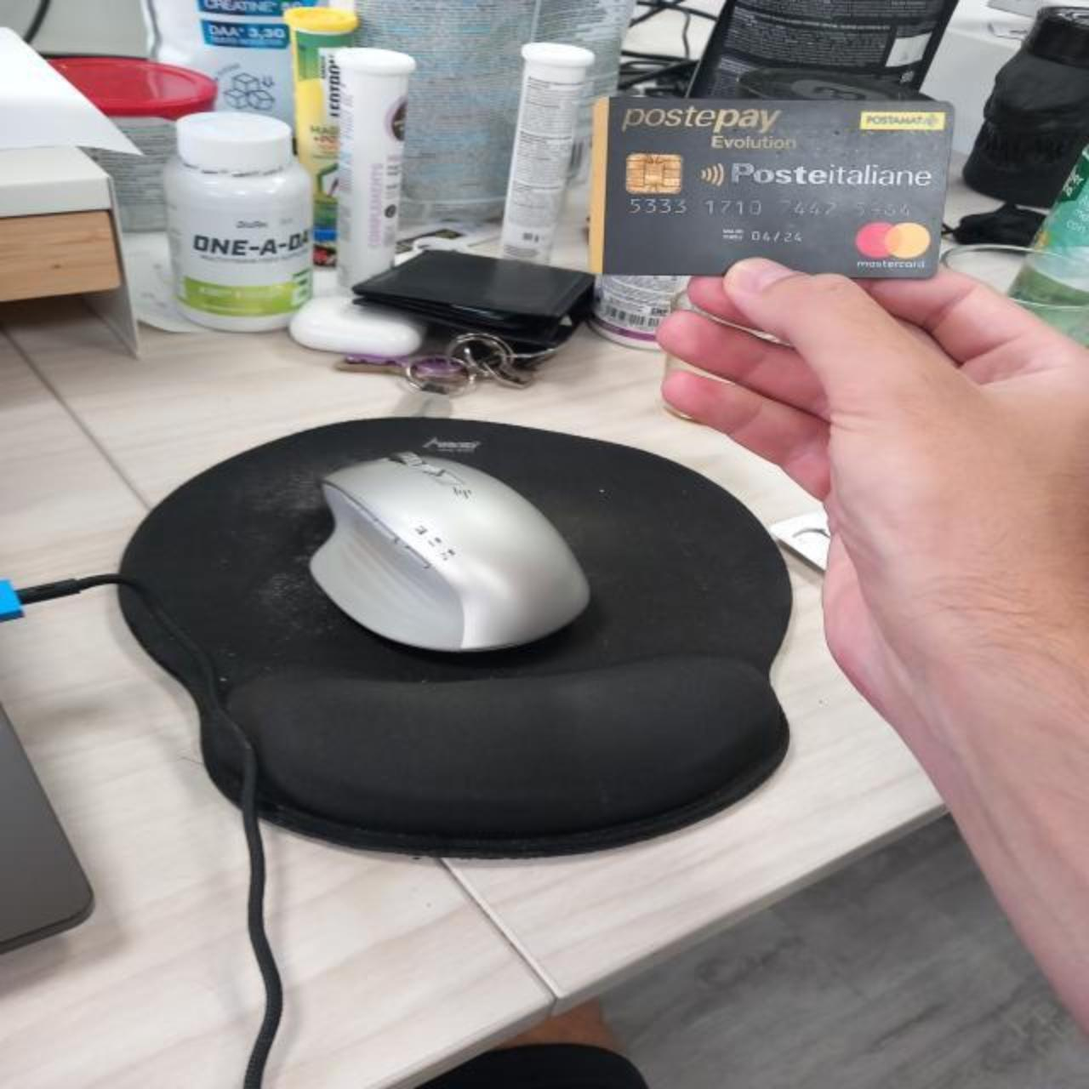credit_card: (579, 92, 960, 282)
